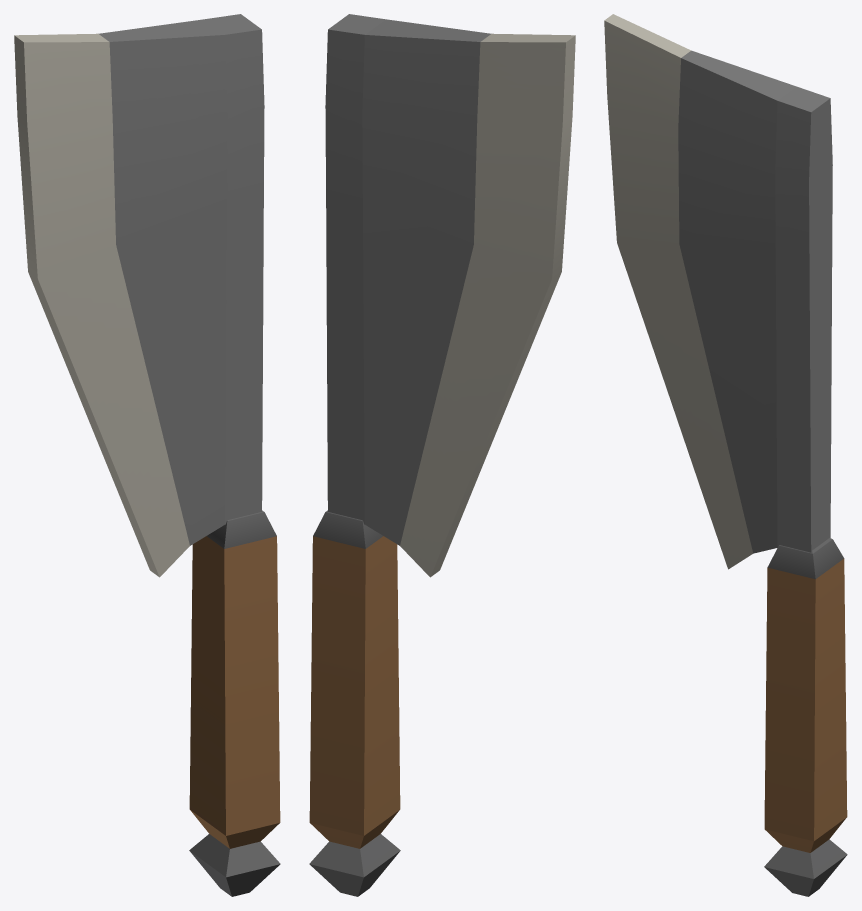
Rendered from Weapon_I.fbx.
3 views of the same model, side by side, from view 1: azimuth 30°, elevation 25°; view 2: azimuth 150°, elevation 25°; view 3: azimuth 330°, elevation 25° (orthographic). The views are drawn at different scales.
Visible parts, largest first — view 1: Weapon_I; view 2: Weapon_I; view 3: Weapon_I.
Part boxes in pixels (x1,y1,x2,y2): Weapon_I: (14, 14, 280, 896); Weapon_I: (309, 14, 575, 896); Weapon_I: (604, 14, 847, 896).
Size of the model in its own units: 26.64 by 94.58 by 7.
